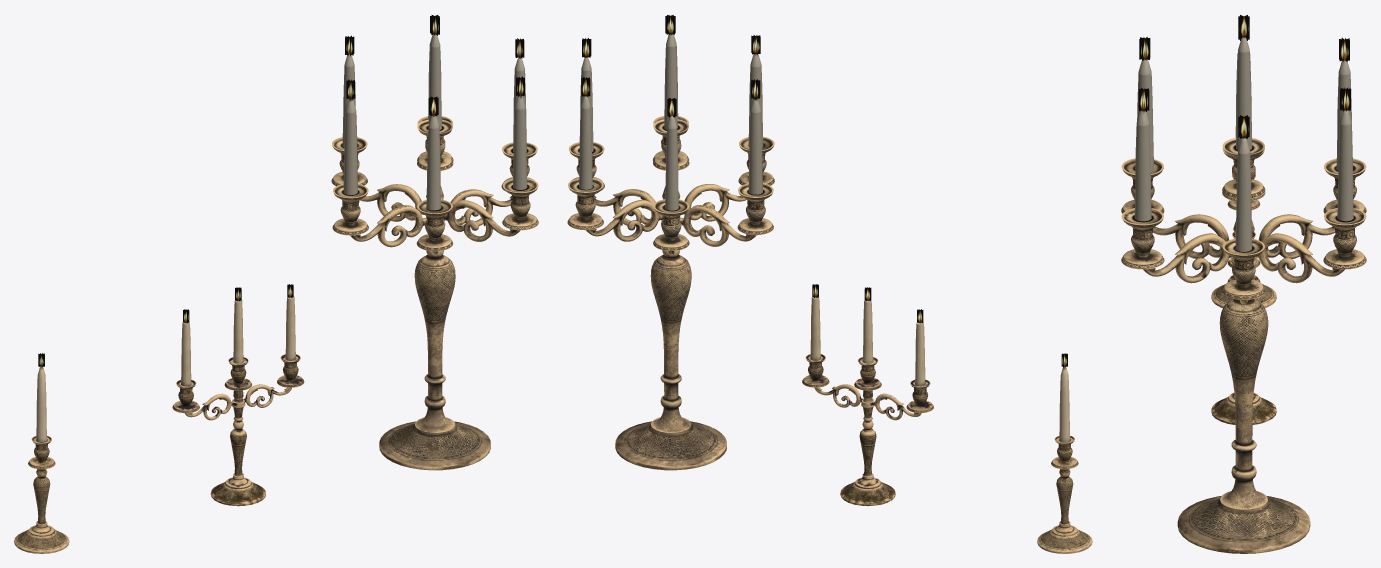
Rendered from brass_candleholders.glb.
The picture shows the model from 3 angles, left to right: view 1: azimuth 30°, elevation 25°; view 2: azimuth 150°, elevation 25°; view 3: azimuth 270°, elevation 25°; orthographic projection. The views are drawn at different scales.
Parts seen in each view (by area): view 1: brass_candleholder_03, brass_candleholder_02, brass_candleholder_01; view 2: brass_candleholder_03, brass_candleholder_02, brass_candleholder_01; view 3: brass_candleholder_03, brass_candleholder_02, brass_candleholder_01.
Boxes of the visible parts, <box> form: brass_candleholder_03: <box>38,15,538,470</box>; brass_candleholder_02: <box>172,295,304,506</box>; brass_candleholder_01: <box>14,366,69,553</box>; brass_candleholder_03: <box>567,14,1067,470</box>; brass_candleholder_02: <box>802,296,933,505</box>; brass_candleholder_01: <box>1037,366,1092,553</box>; brass_candleholder_03: <box>1121,15,1366,553</box>; brass_candleholder_02: <box>1211,232,1276,424</box>; brass_candleholder_01: <box>1211,174,1276,307</box>.
Size of the model in its own units: 1.05 by 0.8353 by 0.3647.
5 materials, 5 textured.
